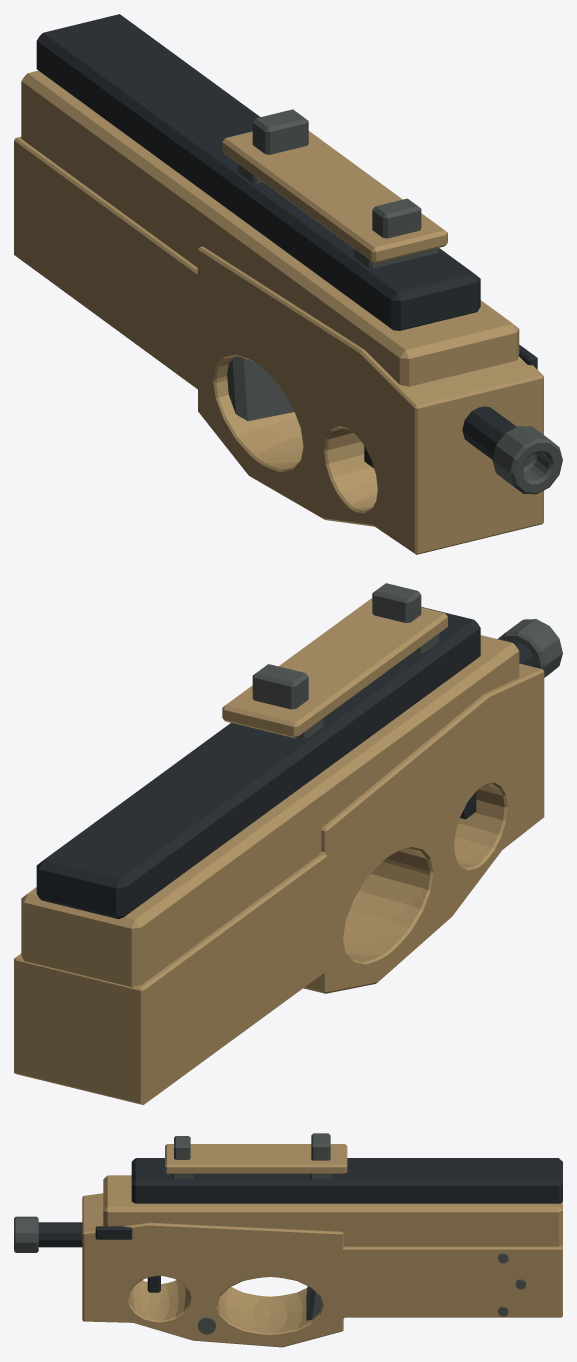
3 renders of one model, top to bottom at view 1: azimuth 30°, elevation 25°; view 2: azimuth 150°, elevation 25°; view 3: azimuth 270°, elevation 25°, orthographic. The views are drawn at different scales.
Parts seen in each view (by area): view 1: FTF_Weapon_P90_EarthPlain_Mesh; view 2: FTF_Weapon_P90_EarthPlain_Mesh; view 3: FTF_Weapon_P90_EarthPlain_Mesh.
Boxes of the visible parts, x1=… form: FTF_Weapon_P90_EarthPlain_Mesh: x1=14, y1=14, x2=562, y2=554; FTF_Weapon_P90_EarthPlain_Mesh: x1=14, y1=583, x2=562, y2=1104; FTF_Weapon_P90_EarthPlain_Mesh: x1=14, y1=1133, x2=562, y2=1347.
Bounding box in the file's own units: 0.2635 × 0.5986 × 1.57.
